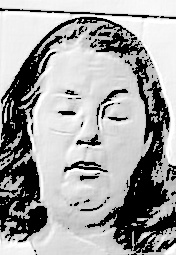nose_M_C: (74, 116, 102, 160)
